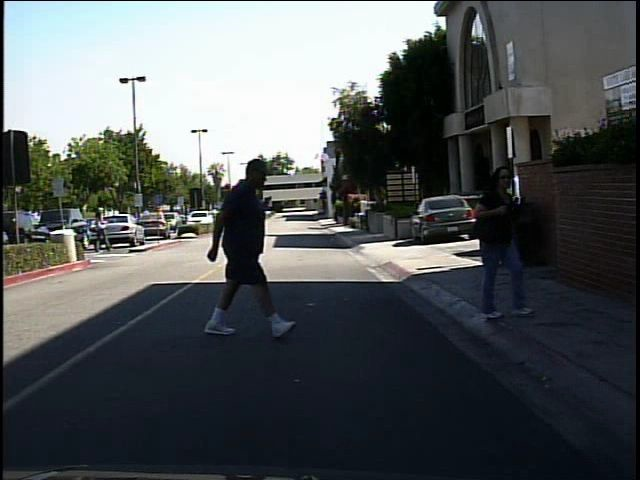person: (196, 152, 301, 341), (461, 159, 539, 329), (90, 203, 112, 256)
